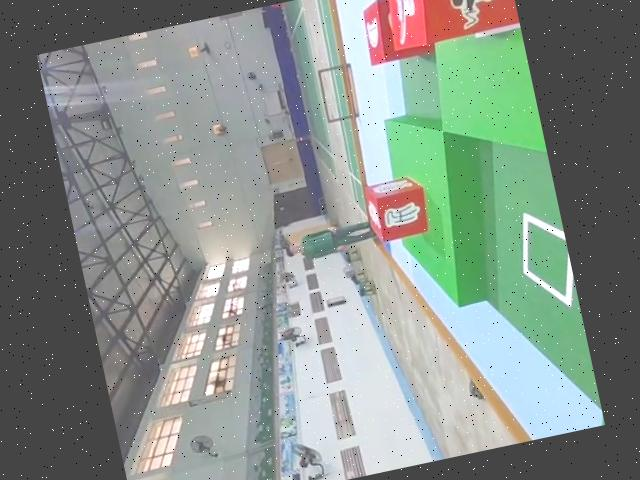R1: (376, 0, 520, 53)
R2 Fake: (360, 174, 434, 247)
